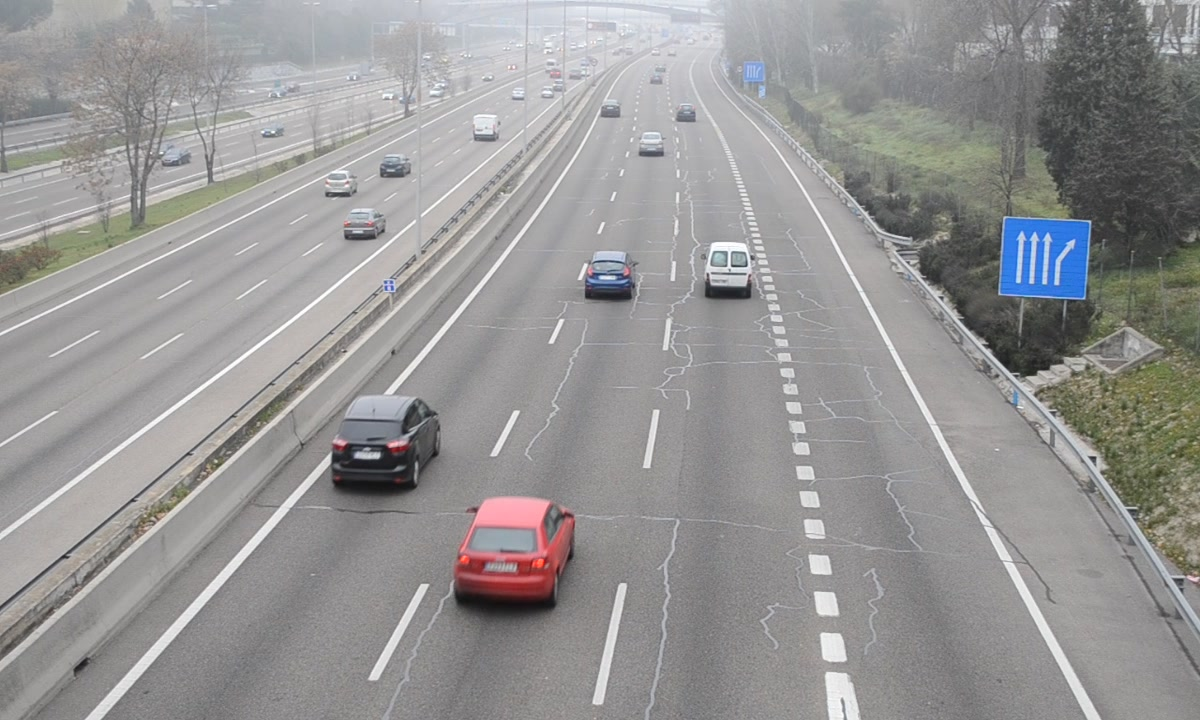car: (456, 499, 572, 604), (334, 397, 438, 487), (585, 250, 635, 299), (638, 130, 666, 156), (675, 101, 698, 124)
van: (706, 241, 753, 295)
